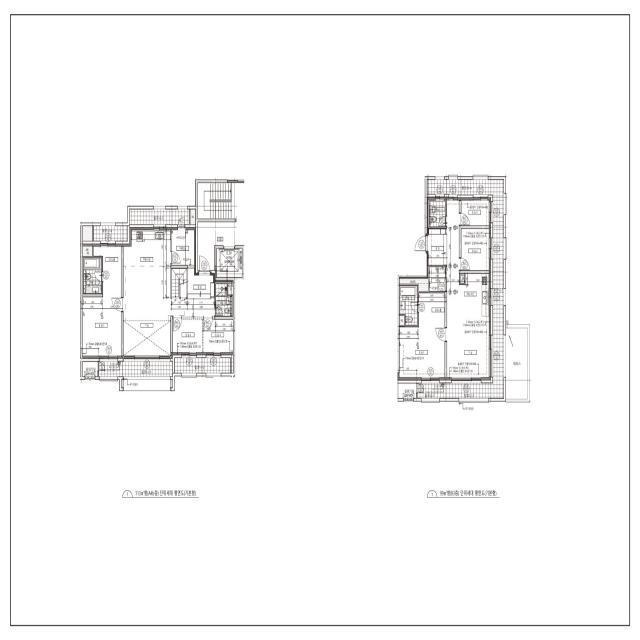space_balconi: (417, 180, 504, 398), (99, 362, 172, 377), (130, 209, 189, 224), (175, 358, 231, 373), (93, 226, 127, 241)
space_bedroom: (398, 327, 445, 380), (83, 297, 121, 358), (461, 229, 491, 270), (173, 319, 202, 355), (204, 319, 233, 355), (461, 198, 491, 225)
space_dressroom: (93, 244, 121, 297), (419, 293, 445, 327)
space_elevator: (217, 249, 242, 277)
space_elevator_hall: (198, 183, 244, 270)
space_front: (188, 268, 215, 299), (426, 229, 447, 265)
space_kitchen: (123, 228, 171, 299), (459, 274, 491, 316)
space_living_room: (447, 197, 491, 380), (123, 299, 215, 358)
space_multipurpose_space: (172, 228, 196, 265)
space_other: (399, 277, 428, 291), (429, 267, 445, 291), (83, 226, 92, 241), (83, 244, 92, 256), (190, 209, 196, 225), (228, 284, 233, 295), (400, 316, 404, 325), (460, 274, 464, 283)
space_outdoor_room: (398, 383, 416, 398), (83, 362, 98, 377)
space_staircase: (198, 183, 236, 219), (172, 268, 187, 299)
space_toilet: (400, 286, 417, 325), (84, 258, 102, 294), (216, 284, 232, 316), (429, 201, 446, 227)
